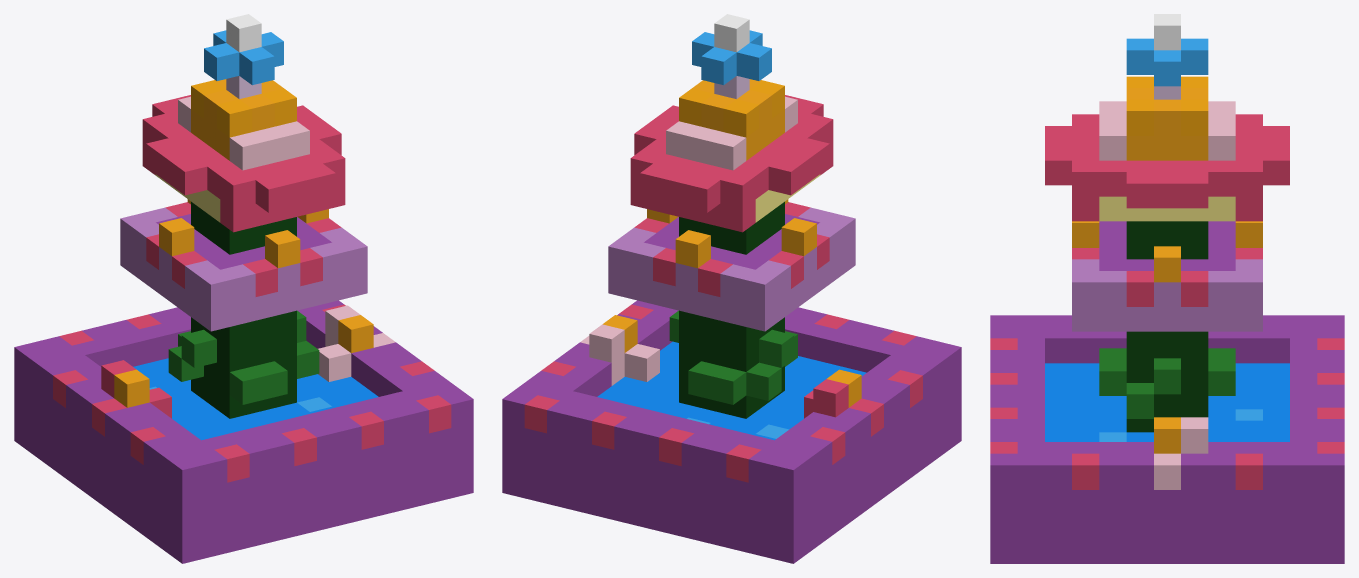
The model's file is flower_fountain_-_voxel_32x32_animated.glb.
3 renders of one model, left to right at view 1: azimuth 30°, elevation 25°; view 2: azimuth 150°, elevation 25°; view 3: azimuth 270°, elevation 25°, orthographic. The views are drawn at different scales.
Parts seen in each view (by area): view 1: idle_frame_0; view 2: idle_frame_0; view 3: idle_frame_0.
Boxes of the visible parts, x1,y1,x2,y2 form: idle_frame_0: (14, 14, 473, 563); idle_frame_0: (502, 14, 961, 563); idle_frame_0: (990, 14, 1344, 563).
Bounding box in the file's own units: 0.4062 × 0.5938 × 0.4063.
Materials: 1 (1 with a texture image).
